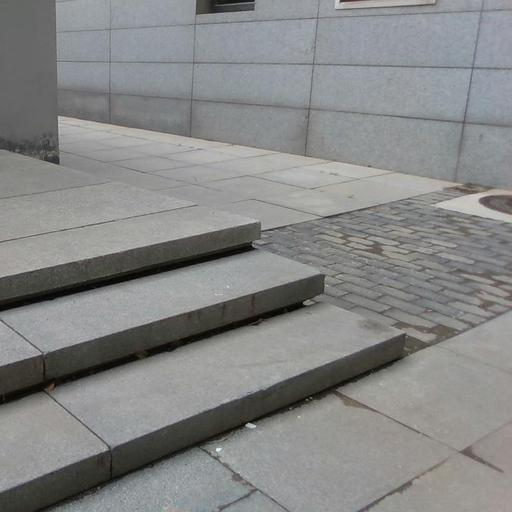stairs: (0, 173, 403, 511)
